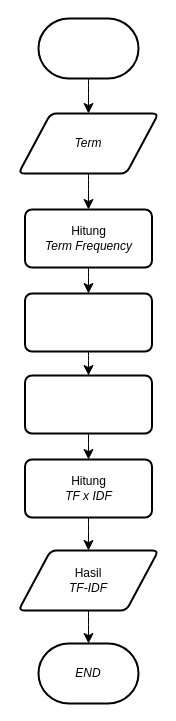
Some shapes in this 176 by 721 pixel diagram are drawn without their labels. Here are the shapes that lost their labels. From the top down, the box of each, then its label:
(37, 17, 139, 79): START
(24, 292, 152, 352): Hitung Document Frequency
(24, 374, 152, 434): Hitung Inverse Document Frequency
